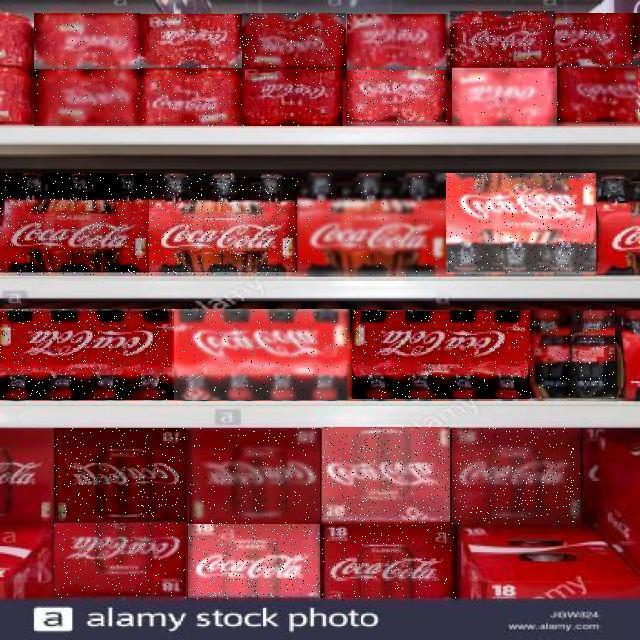Drinks: (172, 309, 352, 400), (352, 310, 530, 399), (0, 309, 174, 400), (446, 174, 596, 276), (296, 174, 446, 276), (148, 174, 297, 276), (0, 174, 149, 276), (189, 428, 320, 524), (54, 429, 186, 523), (452, 428, 580, 524), (322, 428, 450, 524), (188, 524, 320, 600), (54, 524, 186, 600), (322, 525, 456, 599), (34, 68, 140, 126), (452, 68, 557, 126), (35, 13, 141, 69), (244, 68, 346, 126), (450, 11, 555, 67), (141, 68, 242, 126), (242, 13, 346, 69), (348, 70, 450, 126), (348, 15, 450, 71), (140, 15, 242, 69), (554, 14, 640, 70), (558, 70, 640, 126), (570, 310, 615, 398), (530, 310, 572, 398)
